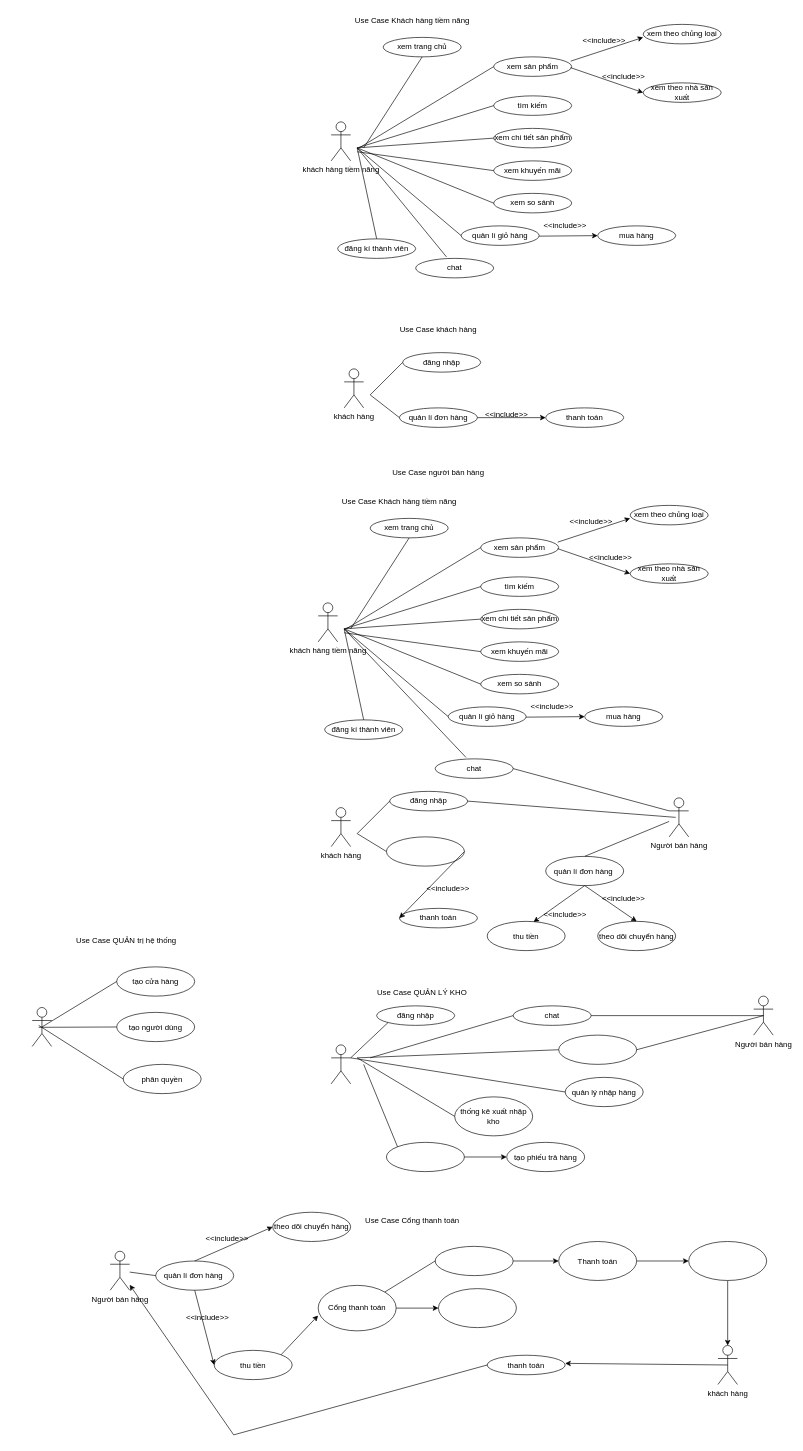
Image size: 803x1451. Some labels were removed from this diagram. Each missing label, with the centre of its shape:
"Kiếm hoá đơn tạm" belongs at pixel 474 1261.
"Lịch sử giao dịch" belongs at pixel 477 1308.
"quản lí đơn hàng cá nhân" belongs at pixel 425 851.
"QUẢN LÝ KHO" belongs at pixel 341 1064.
"quản lý tồn kho" belongs at pixel 425 1157.
"QUản trị hệ thống" belongs at pixel 42 1026.
"Xuất hoá đơn" belongs at pixel 727 1260.
"xuất hàng" belongs at pixel 597 1049.
